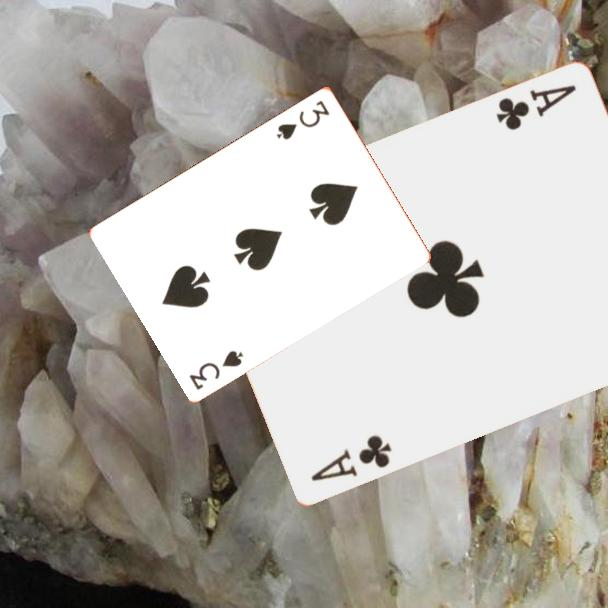c01: (307, 432, 394, 485), (492, 82, 579, 134)
s03: (185, 346, 246, 393), (273, 96, 333, 142)
